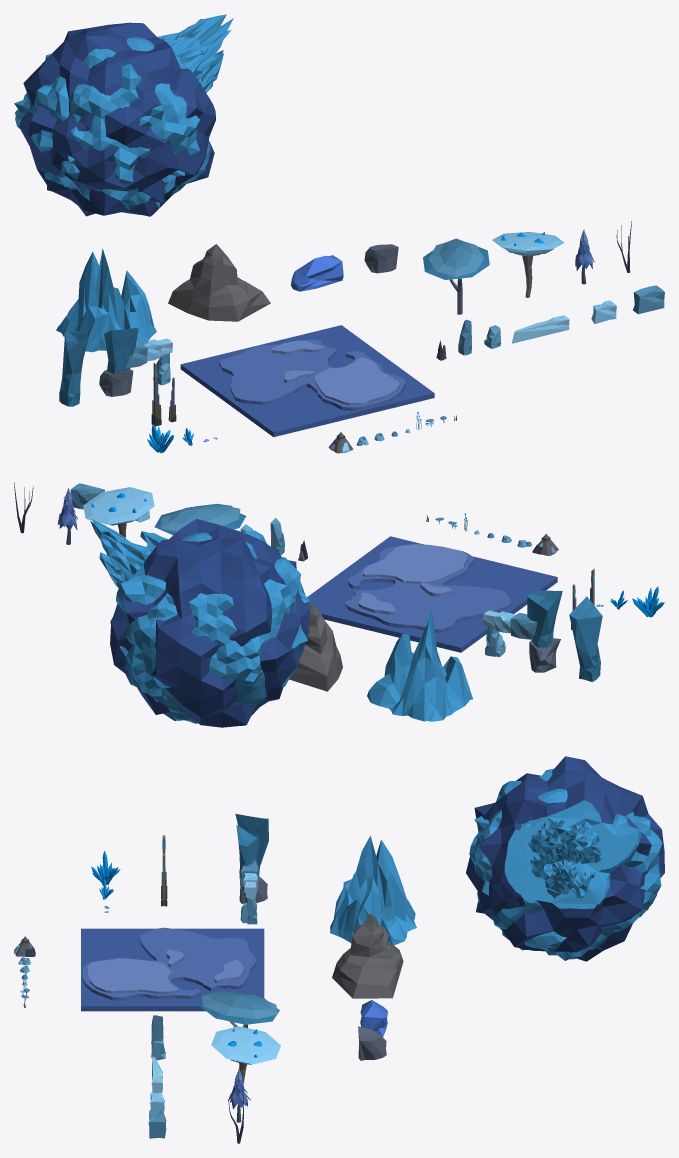
3 views of the same model, one above another, from view 1: azimuth 30°, elevation 25°; view 2: azimuth 150°, elevation 25°; view 3: azimuth 270°, elevation 25° (orthographic). The views are drawn at different scales.
Visible parts, largest first — view 1: SP_Planet, SP_Ground01, SP_Ground02, SP_Mountain01, SP_Mountain02, SP_Rock08, SP_Ground05, SP_Tree01, SP_Rock07, SP_Tree02, SP_Mountain03, SP_Rock06 (+3 smaller); view 2: SP_Planet, SP_Ground01, SP_Mountain01, SP_Ground02, SP_Rock08, SP_Ground05, SP_Mountain02, SP_Tree02, SP_Rock07, SP_Tree01, SP_Tree03, SP_Rock05 (+3 smaller); view 3: SP_Planet, SP_Ground01, SP_Ground02, SP_Mountain01, SP_Mountain02, SP_Ground05, SP_Tree02, SP_Tree01, SP_Rock08, SP_Rock07, SP_Rock06, SP_Mountain03.
Part boxes in pixels (left/top/right/bottom): SP_Planet: left=14, top=14, right=233, bottom=216; SP_Ground01: left=180, top=325, right=434, bottom=437; SP_Ground02: left=219, top=339, right=405, bottom=410; SP_Mountain01: left=56, top=248, right=156, bottom=352; SP_Mountain02: left=168, top=244, right=270, bottom=321; SP_Rock08: left=99, top=328, right=172, bottom=396; SP_Ground05: left=314, top=357, right=399, bottom=405; SP_Tree01: left=423, top=238, right=489, bottom=314; SP_Rock07: left=59, top=330, right=88, bottom=406; SP_Tree02: left=492, top=232, right=564, bottom=297; SP_Mountain03: left=291, top=255, right=343, bottom=291; SP_Rock06: left=364, top=244, right=398, bottom=273; SP_Planet: left=90, top=518, right=310, bottom=727; SP_Ground01: left=307, top=536, right=557, bottom=652; SP_Mountain01: left=367, top=609, right=472, bottom=721; SP_Ground02: left=344, top=546, right=510, bottom=632; SP_Rock08: left=483, top=590, right=562, bottom=672; SP_Ground05: left=363, top=544, right=467, bottom=583; SP_Mountain02: left=289, top=604, right=342, bottom=691; SP_Tree02: left=83, top=487, right=154, bottom=537; SP_Rock07: left=569, top=596, right=602, bottom=681; SP_Tree01: left=154, top=503, right=246, bottom=535; SP_Tree03: left=57, top=487, right=77, bottom=544; SP_Rock05: left=70, top=483, right=104, bottom=509; SP_Planet: left=466, top=756, right=664, bottom=961; SP_Ground01: left=81, top=928, right=264, bottom=1011; SP_Ground02: left=82, top=927, right=256, bottom=1000; SP_Mountain01: left=330, top=835, right=416, bottom=945; SP_Mountain02: left=332, top=913, right=403, bottom=998; SP_Ground05: left=86, top=958, right=178, bottom=993; SP_Tree02: left=211, top=1026, right=280, bottom=1083; SP_Tree01: left=199, top=991, right=279, bottom=1062; SP_Rock08: left=236, top=825, right=267, bottom=924; SP_Rock07: left=235, top=813, right=268, bottom=875; SP_Rock06: left=358, top=1026, right=386, bottom=1060; SP_Mountain03: left=360, top=1000, right=387, bottom=1036.
Size of the model in its own units: 35.1 by 12.32 by 35.46.
Materials: 1 (1 with a texture image).
